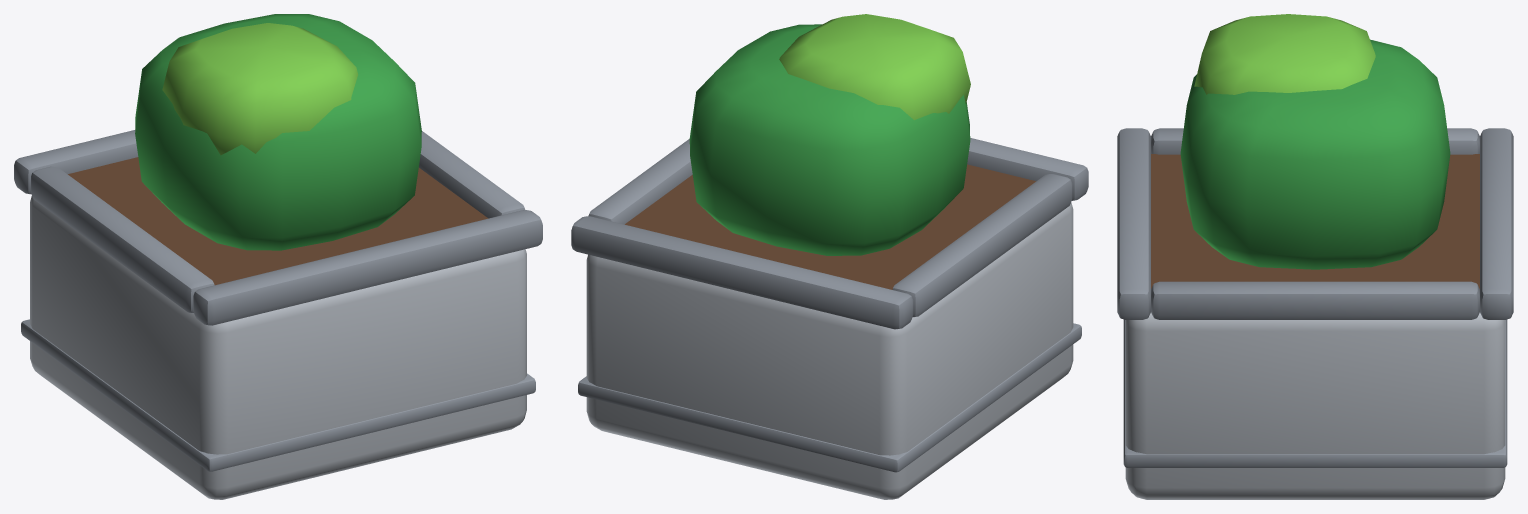
File: floreira_concreto_pequena.glb
3 renders of one model, left to right at view 1: azimuth 30°, elevation 25°; view 2: azimuth 150°, elevation 25°; view 3: azimuth 270°, elevation 25°, orthographic. The views are drawn at different scales.
Parts seen in each view (by area): view 1: floreira_concreto_pequena; view 2: floreira_concreto_pequena; view 3: floreira_concreto_pequena.
Part boxes in pixels (x1,y1,x2,y2): floreira_concreto_pequena: (14, 14, 542, 499); floreira_concreto_pequena: (571, 14, 1088, 499); floreira_concreto_pequena: (1117, 14, 1513, 499).
Size of the model in its own units: 0.94 by 0.985 by 0.94.
1 material, 1 textured.
